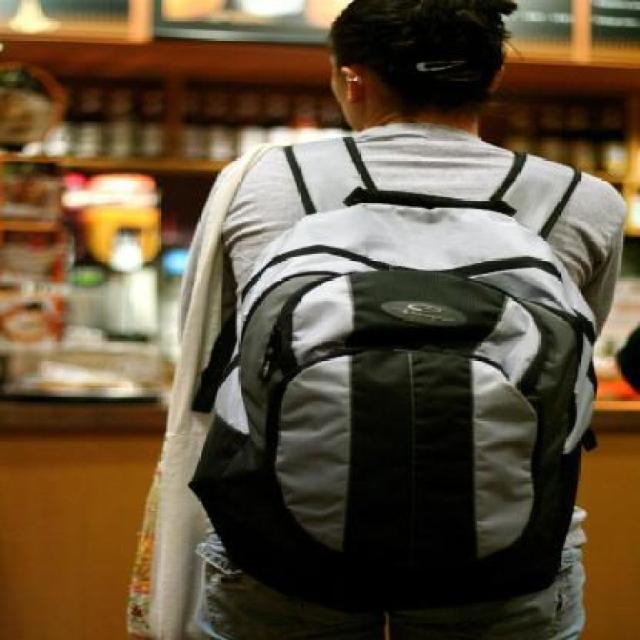backpack: (189, 183, 611, 612)
